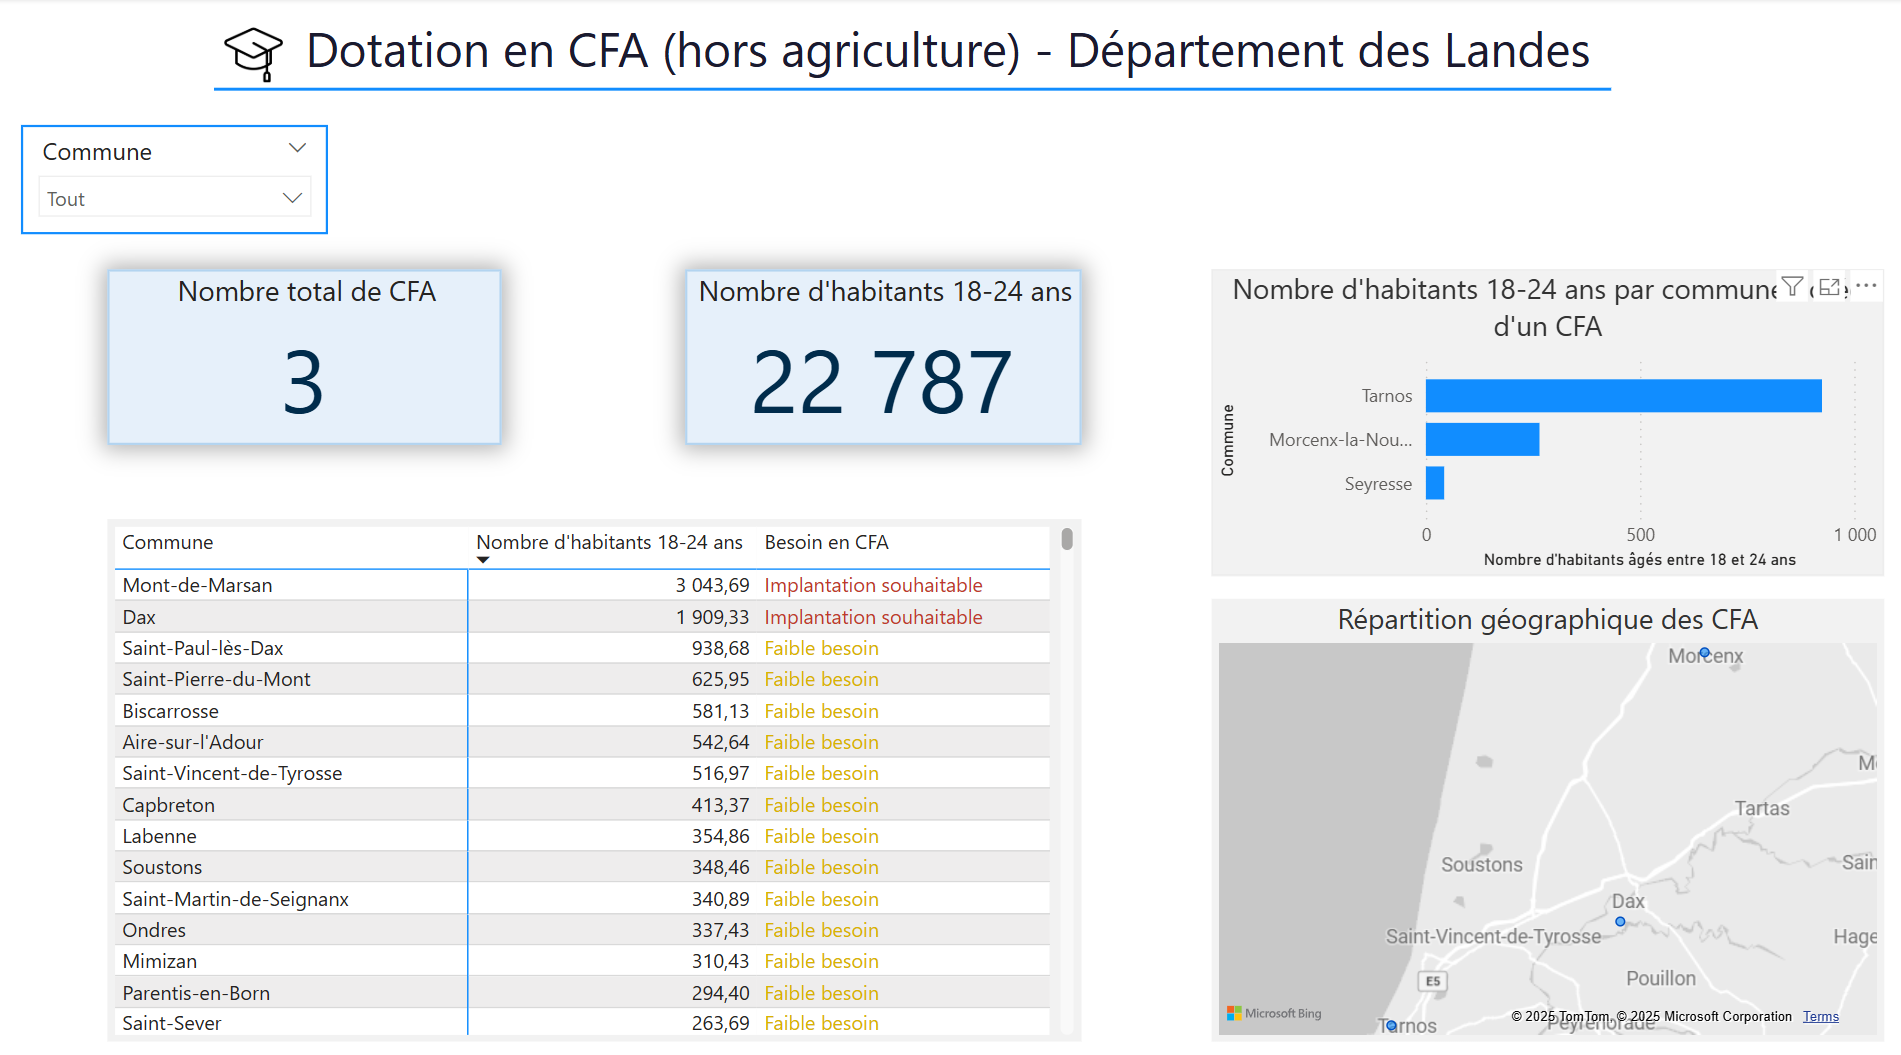

What the dashboard file says about the page in this screenshot:
{"tool":"powerbi","page":{"name":"Éducation","canvas":[1280,720],"ordinal":0},"visuals":[{"type":"map","title":"Répartition géographique des CFA","fields":{"X":["BPE Départements.Longitude"],"Y":["BPE Départements.Latitude"]},"box":[813.8,402.9,451.1,297.4],"z":0},{"type":"slicer","fields":{"Values":["BPE Départements.nom_commune"]},"box":[15,85,206,73.3],"z":1000},{"type":"barChart","title":"Nombre d''habitants 18-24 ans par commune dotée d''un CFA","fields":{"Y":["Sum(Pop Département Landes.NB_reformaté)"],"Category":["BPE Départements.nom_commune"]},"box":[814,181.8,451.1,206],"z":2000},{"type":"pivotTable","title":"Communes sans CFA","fields":{"Values":["Sum(Pop Département Landes.NB_reformaté)","Table_Mesures.Besoin_CFA_sans_total"],"Rows":["BPE Départements.nom_commune"]},"box":[73.3,349.6,653,350.6],"z":3000},{"type":"textbox","box":[201,6,889,66],"z":4000},{"type":"image","box":[141.8,14.5,59.1,49.1],"z":5000},{"type":"card","title":"Nombre total de CFA","fields":{"Values":["Table_Mesures.Nb_total_CFA"]},"box":[73.1,181.7,264.7,117.5],"z":6000},{"type":"card","title":"Nombre d''habitants 18-24 ans","fields":{"Values":["Sum(Pop Département Landes.NB_reformaté)"]},"box":[461,181.7,265.7,117.5],"z":7000},{"type":"shape","box":[145,55,937,12],"z":8000}]}

Visuals, with their boxes in screenshot pixels (x1, y1, x2, y2), scaled from the page's 1280x720 canvas onto the 1901x1055 screenshot:
"Répartition géographique des CFA" map: region(1209, 590, 1879, 1026)
slicer - BPE Départements.nom_commune: region(22, 125, 328, 232)
"Nombre d''habitants 18-24 ans par commune dotée d''un CFA" barChart: region(1209, 266, 1879, 568)
"Communes sans CFA" pivotTable: region(109, 512, 1079, 1026)
textbox: region(299, 9, 1619, 106)
image: region(211, 21, 298, 93)
"Nombre total de CFA" card: region(109, 266, 502, 438)
"Nombre d''habitants 18-24 ans" card: region(685, 266, 1079, 438)
shape: region(215, 81, 1607, 98)
